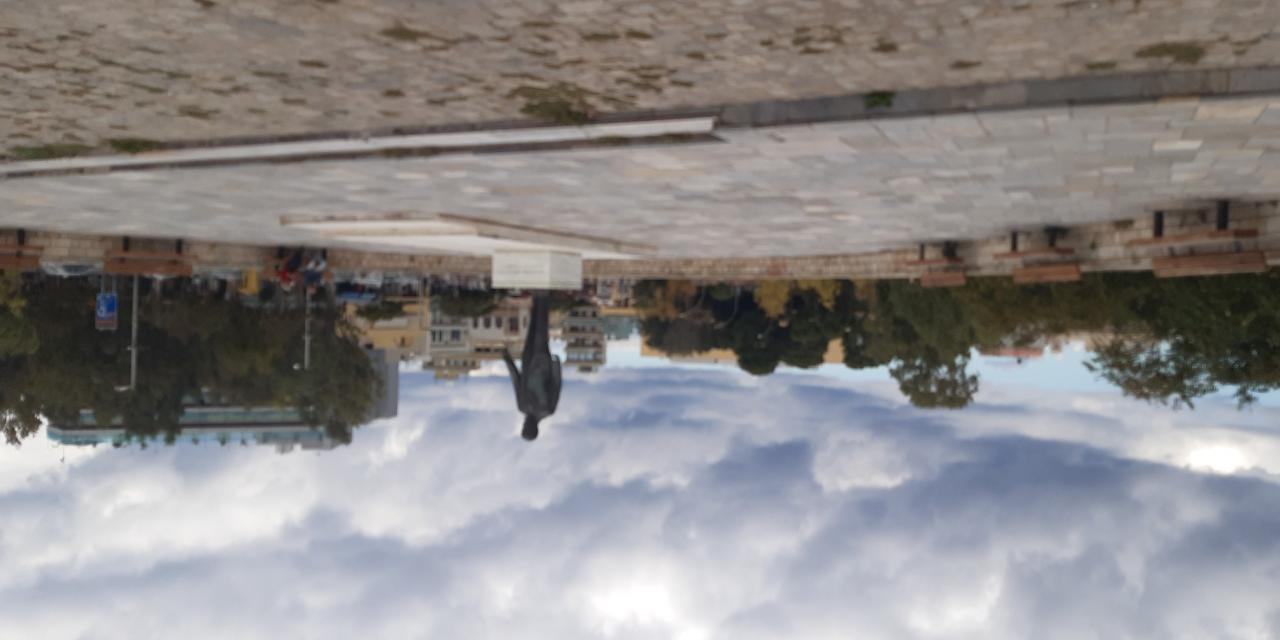Venizelos: (496, 293, 567, 443)
